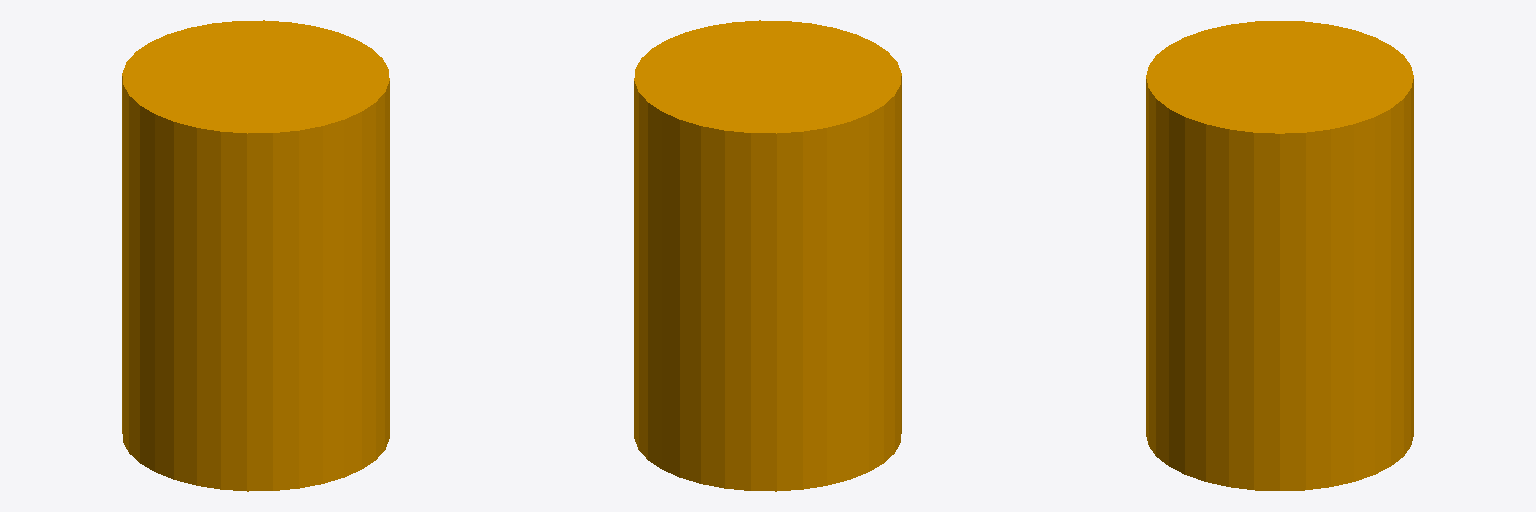
The robot description file, URDF, robot "pepe":
<?xml version="1.0"?><robot name="pepe">
	<link name="0">
		<visual>
			<geometry>
				<cylinder length="2.1250030087822864" radius="0.7209273247333688"/>
			</geometry>
		</visual>
		<collision>
			<geometry>
				<cylinder length="2.1250030087822864" radius="0.7209273247333688"/>
			</geometry>
		</collision>
		<inertial>
			<mass value="3.4697037470373187"/>
			<inertia ixx="0.03" iyy="0.03" izz="0.03" ixy="0" ixz="0" iyx="0"/>
		</inertial>
	</link>
</robot>

--- Facts derived from the render (not from the file) ---
3 views of the same robot in one strip: view 1: azimuth 30°, elevation 25°; view 2: azimuth 150°, elevation 25°; view 3: azimuth 270°, elevation 25° (orthographic).
Model pepe with 1 links and 0 joints (none), rooted at 0, posed all joints at 0.
Visible links, largest first — view 1: 0; view 2: 0; view 3: 0.
Boxes of the visible links, <box> form: 0: <box>122,20,389,491</box>; 0: <box>634,20,901,491</box>; 0: <box>1146,21,1413,490</box>.
Bounding box of the posed robot: 1.44 × 1.44 × 2.12 m (x, y, z).
Geometry: primitives only (box / cylinder / sphere), no mesh files.